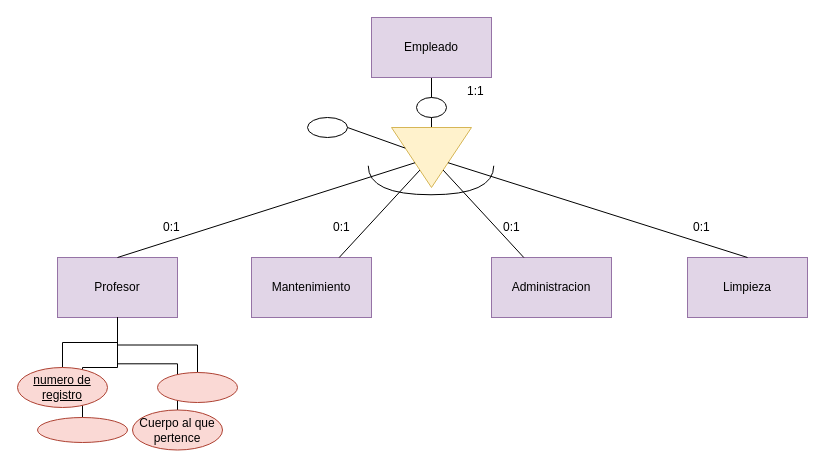
Some shapes in this 825 by 468 pixel diagram are drawn without their labels. Here are the shapes that lost their labels. From the top down, the box of each, then its label:
(306, 116, 348, 138): Tipo
(156, 372, 238, 402): Fecha de alta
(36, 416, 128, 442): Especialidad
